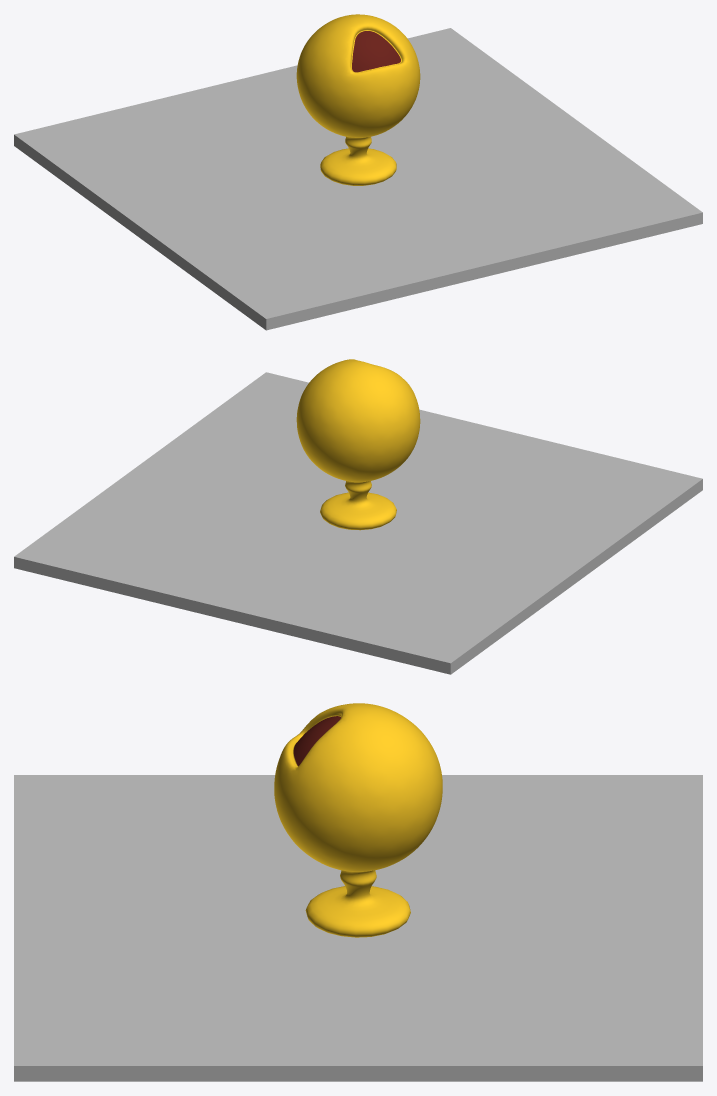
Rendered from shaderball.glb.
3 views of the same model, one above another, from view 1: azimuth 30°, elevation 25°; view 2: azimuth 150°, elevation 25°; view 3: azimuth 270°, elevation 25° (orthographic). The views are drawn at different scales.
Parts seen in each view (by area): view 1: Floor, Shaderball; view 2: Floor, Shaderball; view 3: Floor, Shaderball.
Part boxes in pixels (x1=…): Floor: x1=14, y1=28, x2=702, y2=330; Shaderball: x1=296, y1=14, x2=420, y2=185; Floor: x1=14, y1=372, x2=702, y2=674; Shaderball: x1=296, y1=359, x2=420, y2=530; Floor: x1=14, y1=775, x2=702, y2=1081; Shaderball: x1=274, y1=703, x2=442, y2=937.
Size of the model in its own units: 8 by 2.89 by 8.
